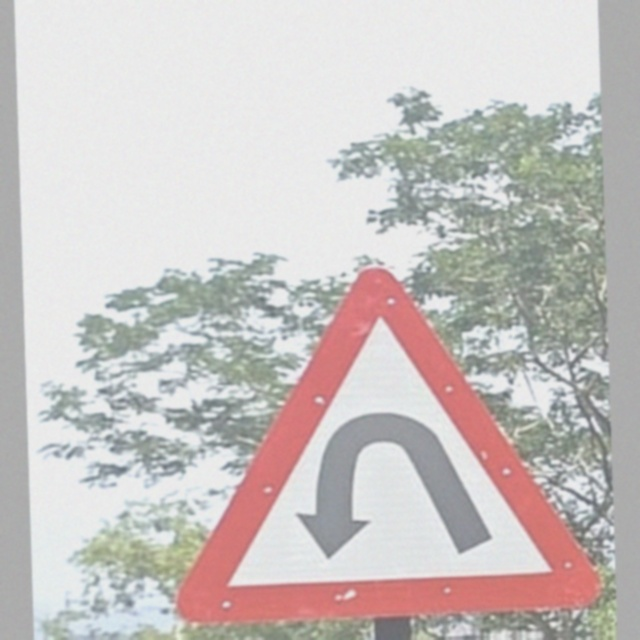Left_Hair_Pin_Bend: (166, 249, 607, 623)
